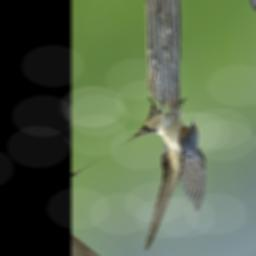Swallow: (105, 74, 218, 256)
